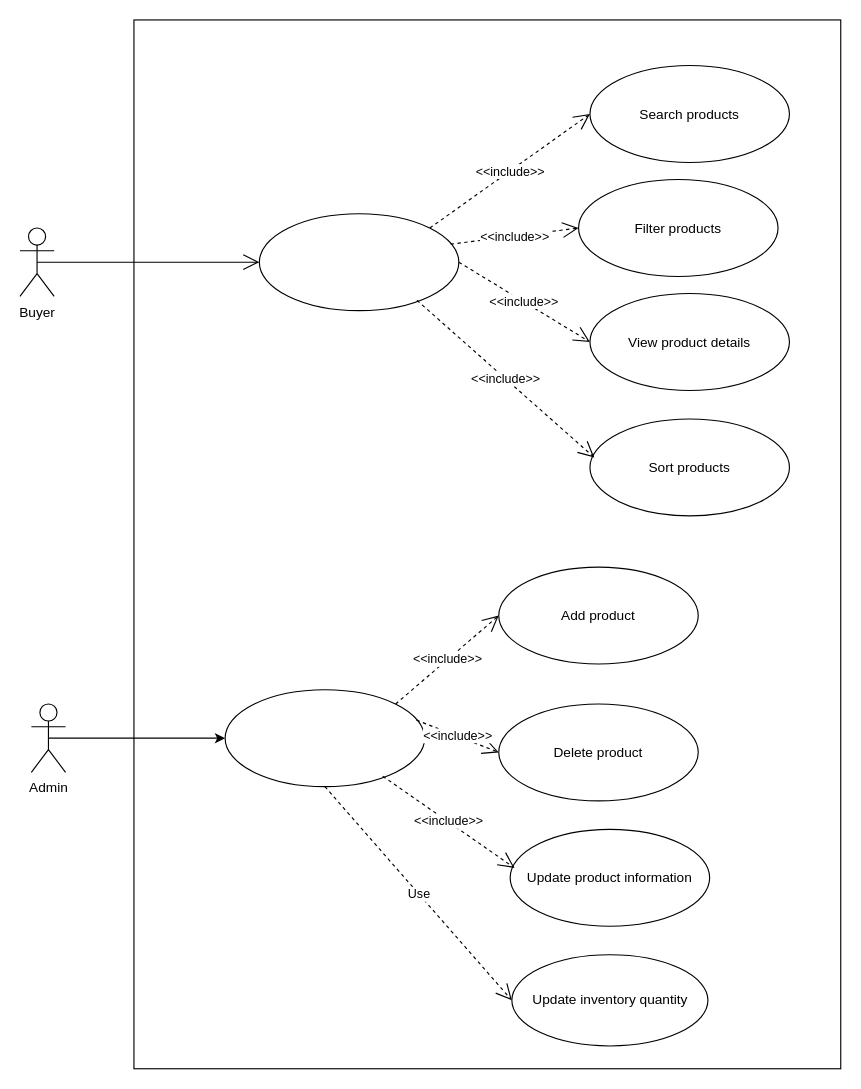
This 861x1089 diagram has some shape labels left out. The shapes that lost their labels are listed below. From the top down, each one's centre as x and y in pixels, then its label:
(358,262): Explore products
(324,738): Manage products
